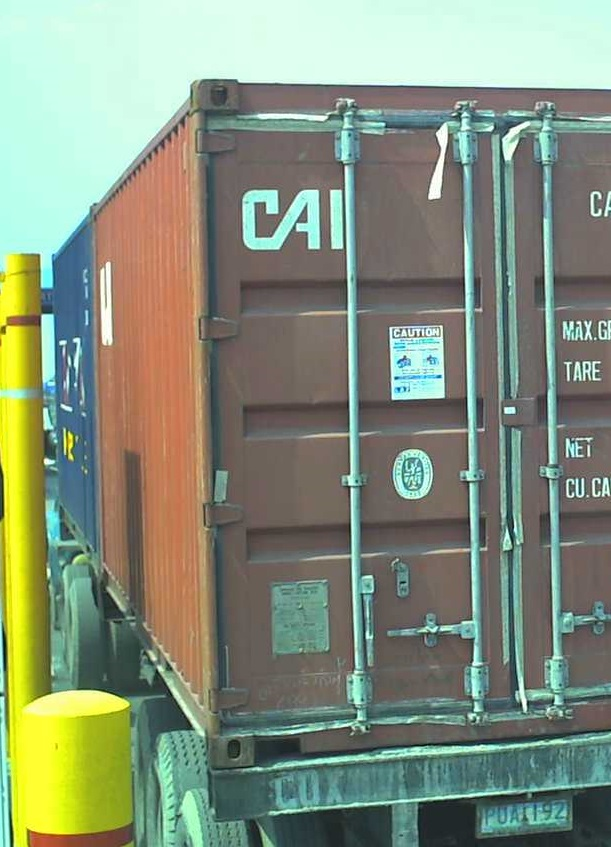container_door: (193, 69, 611, 780)
